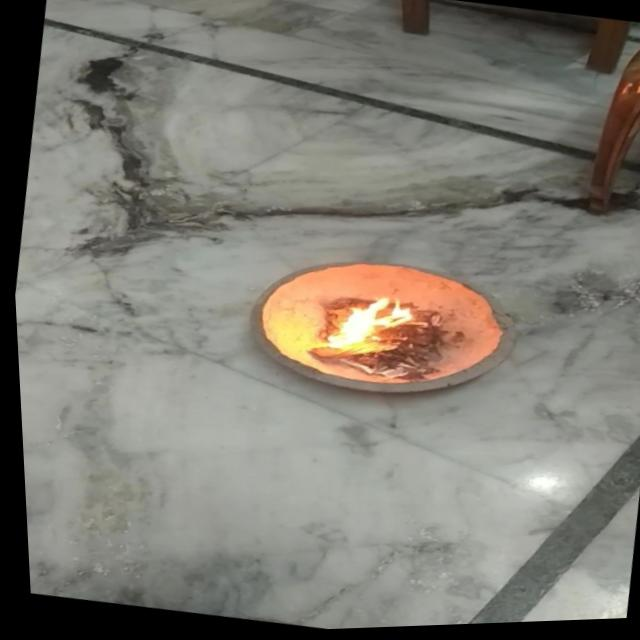fire: (305, 287, 431, 375)
